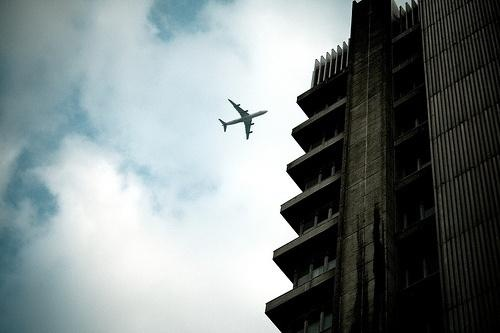aeroplane: (219, 99, 269, 141)
